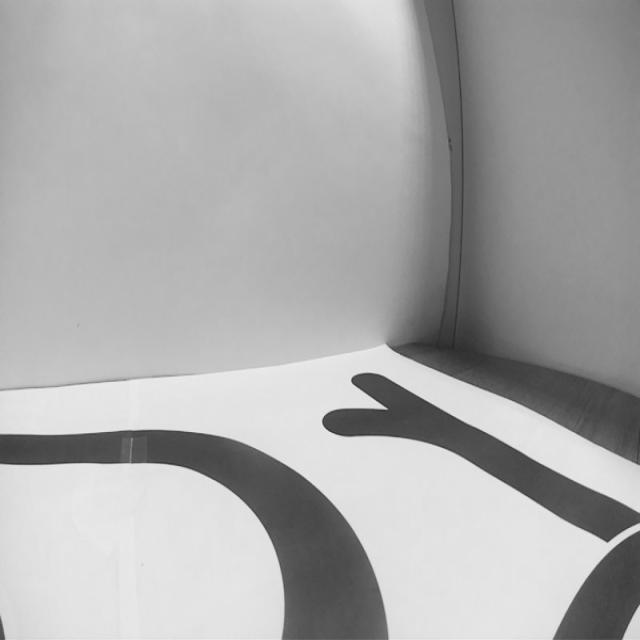laneLeftTurn: (178, 439, 394, 640)
